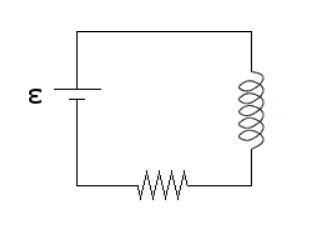resistor: (114, 161, 200, 210)
